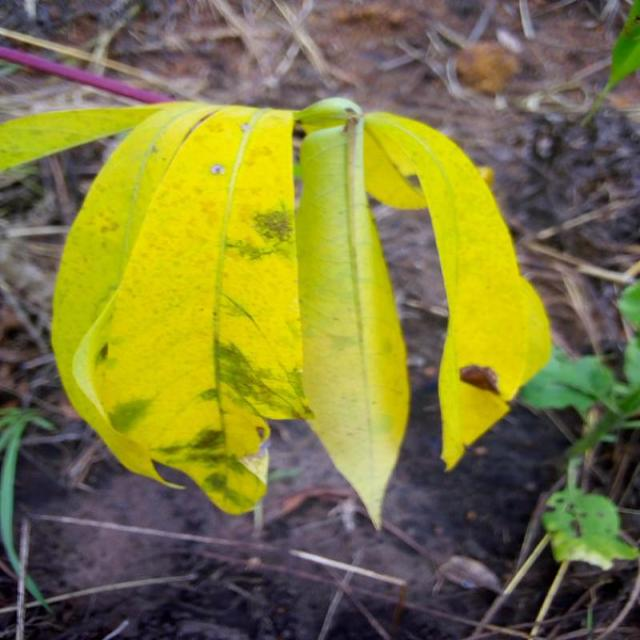cassava leaf: (6, 95, 553, 530), (49, 98, 310, 516), (361, 109, 552, 472), (294, 100, 411, 531)
